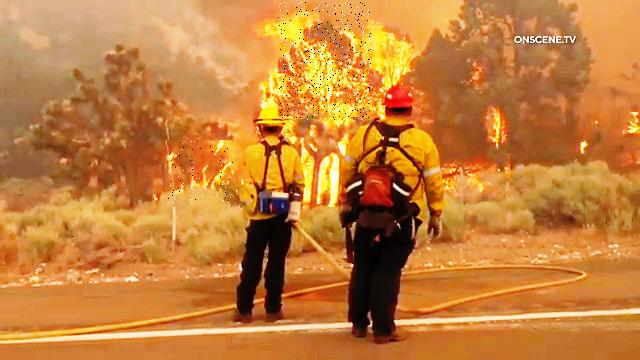fire: (279, 2, 372, 120), (166, 141, 234, 204)
